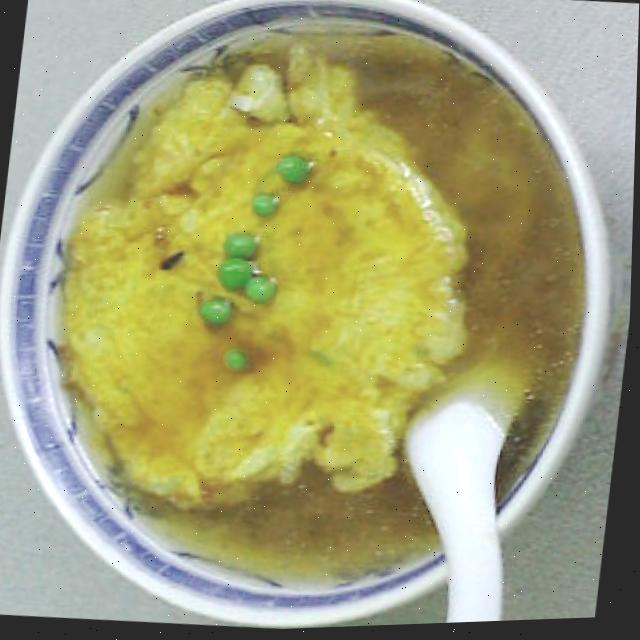面条主食: (5, 0, 640, 639)
